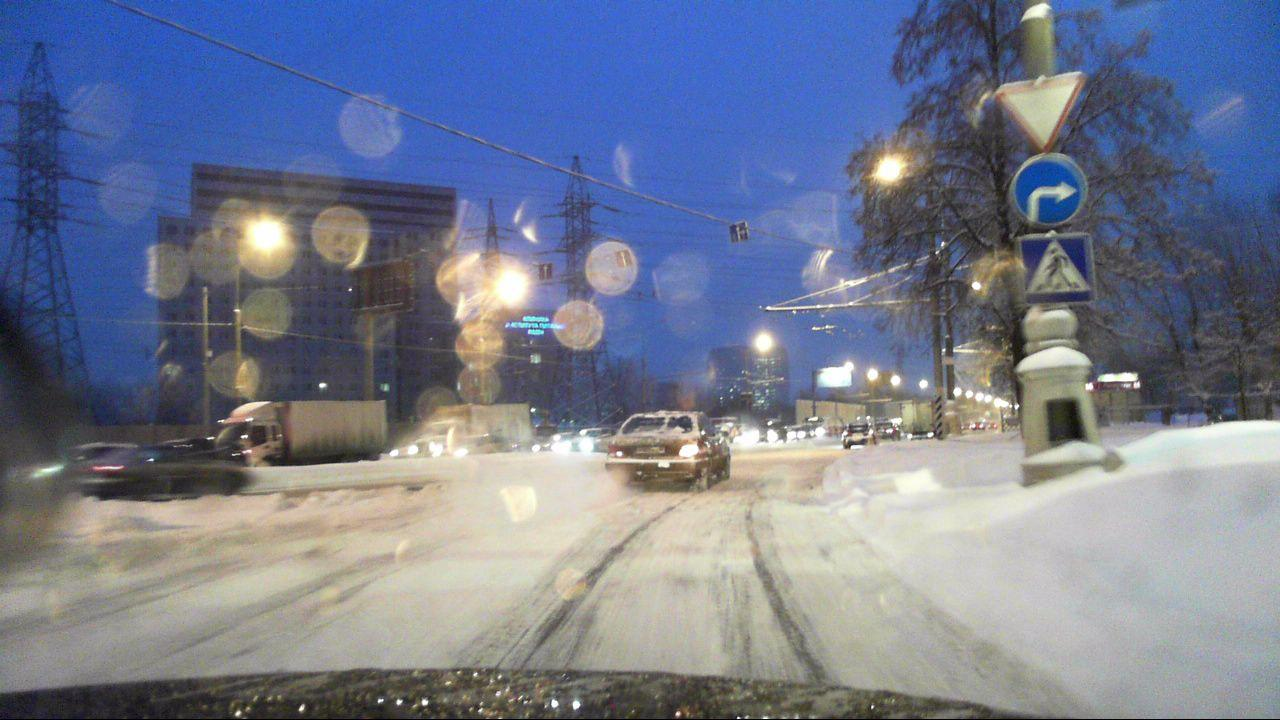2_4: (993, 71, 1084, 150)
4_1_2: (1008, 150, 1089, 227)
5_15_2: (729, 219, 746, 241), (539, 260, 553, 281)
5_19_1: (1014, 231, 1093, 306)
